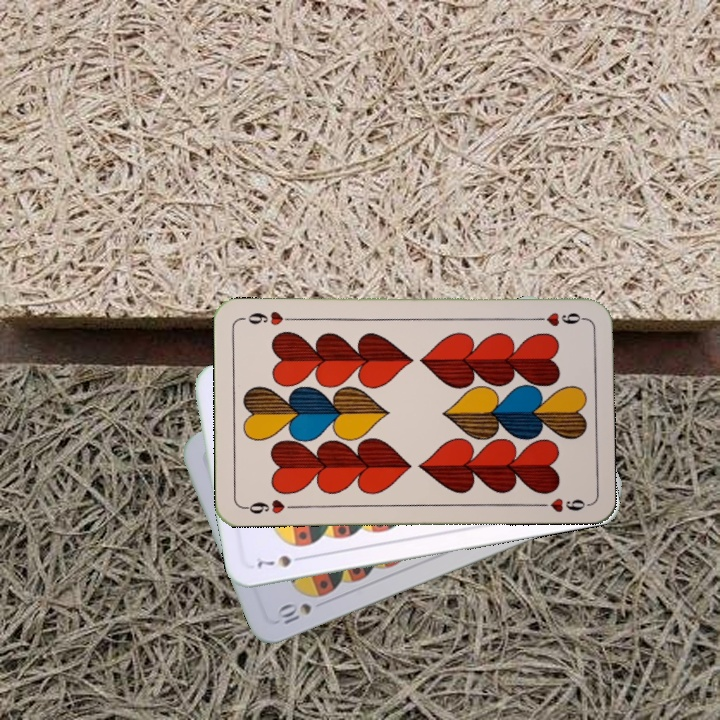H9: (240, 496, 299, 517), (528, 308, 587, 329)
S10: (275, 599, 314, 627)
S7: (250, 551, 309, 570)
